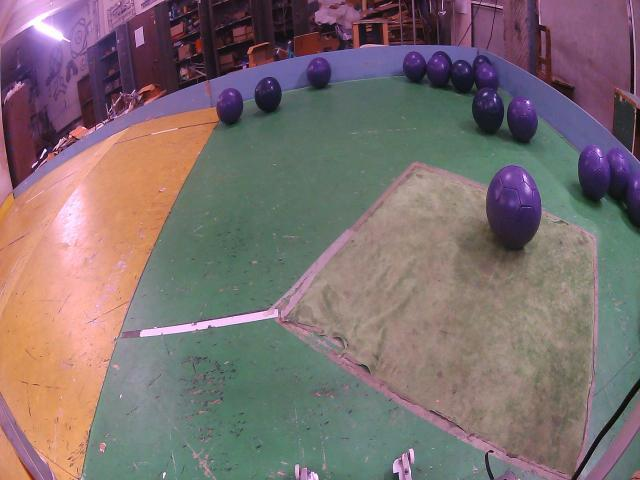jambhalya: (486, 165, 541, 248), (579, 145, 610, 201), (472, 87, 504, 133), (506, 97, 538, 142), (606, 148, 630, 200), (216, 88, 244, 125), (306, 57, 331, 88), (626, 172, 640, 227), (426, 55, 450, 87), (402, 52, 426, 82), (475, 63, 499, 90)
kaalyya: (255, 77, 281, 112), (450, 60, 474, 93), (472, 55, 491, 72), (434, 50, 452, 67)
